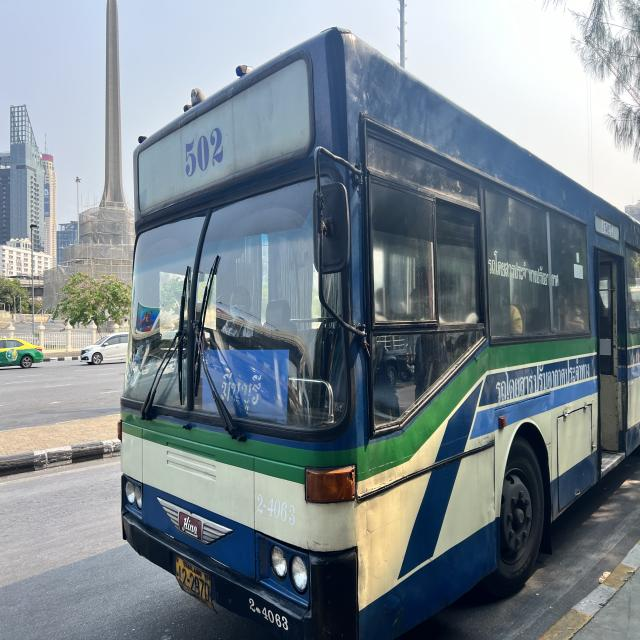BMTA-bus: (119, 27, 640, 640)
Bus-Line-Number: (179, 120, 230, 186)
Destination-Sign-Normal: (195, 347, 288, 423)
